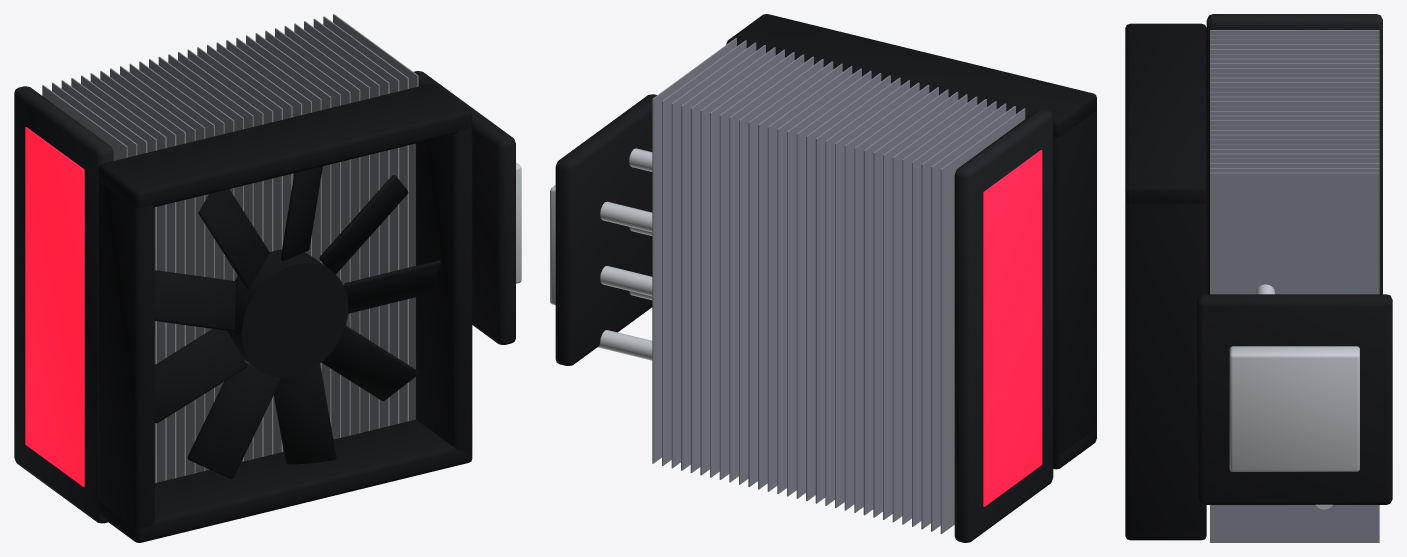
The model's file is cooler-air.glb.
The picture shows the model from 3 angles, left to right: view 1: azimuth 30°, elevation 25°; view 2: azimuth 150°, elevation 25°; view 3: azimuth 270°, elevation 25°; orthographic projection.
Visible parts, largest first — view 1: cooler_air_body, cooler_fan_rotor; view 2: cooler_air_body; view 3: cooler_air_body.
Boxes of the visible parts, x1,y1,x2,y2 form: cooler_air_body: [14, 14, 521, 542]; cooler_fan_rotor: [154, 166, 440, 478]; cooler_air_body: [550, 14, 1096, 542]; cooler_air_body: [1125, 14, 1392, 542].
Size of the model in its own units: 0.1558 by 0.128 by 0.082.
